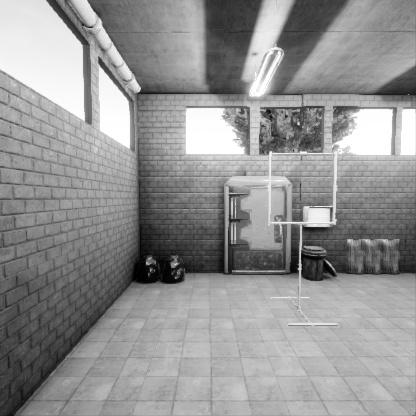gate: (268, 194, 342, 266)
